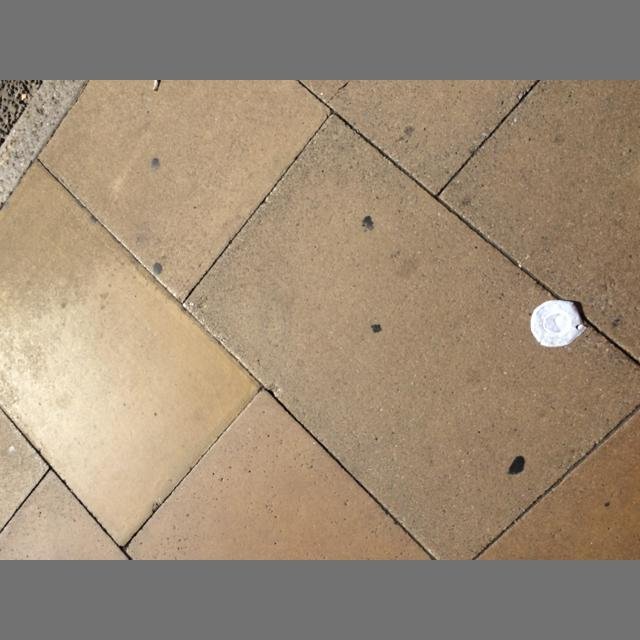litter: (531, 300, 587, 347), (152, 81, 160, 91)
